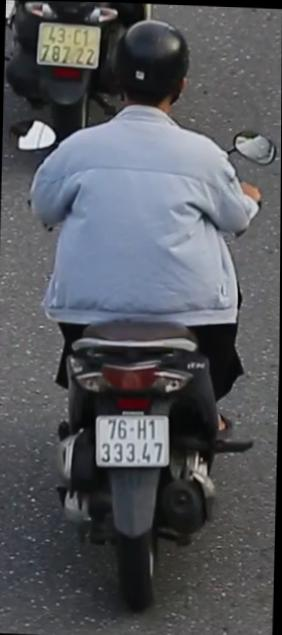LP: (87, 408, 174, 480)
helmet: (112, 12, 190, 115)
